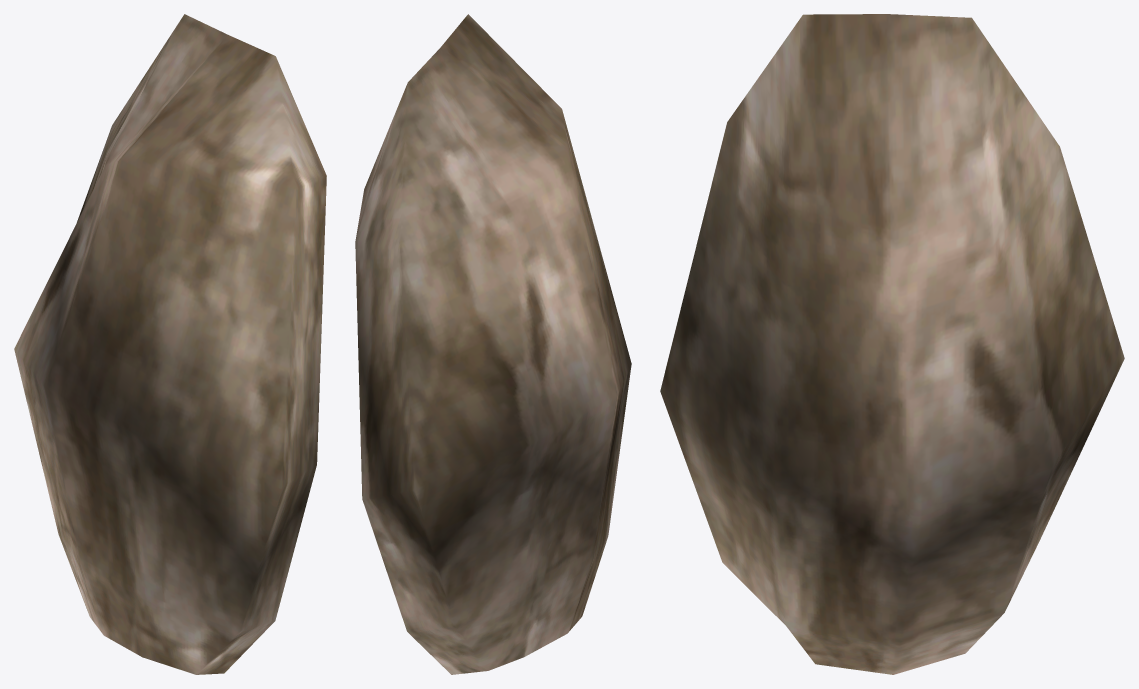
Rendered from OVERHILL_A_01_ROCK89.fbx.
3 renders of one model, left to right at view 1: azimuth 30°, elevation 25°; view 2: azimuth 150°, elevation 25°; view 3: azimuth 270°, elevation 25°, orthographic. The views are drawn at different scales.
Visible parts, largest first — view 1: OVERHILL_A_01_ROCK89; view 2: OVERHILL_A_01_ROCK89; view 3: OVERHILL_A_01_ROCK89.
Part boxes in pixels (left/top/right/bottom): OVERHILL_A_01_ROCK89: left=14, top=14, right=326, bottom=674; OVERHILL_A_01_ROCK89: left=355, top=14, right=631, bottom=674; OVERHILL_A_01_ROCK89: left=660, top=14, right=1124, bottom=674.
Size of the model in its own units: 11793 by 27172 by 16838.
Materials: 1 (1 with a texture image).
